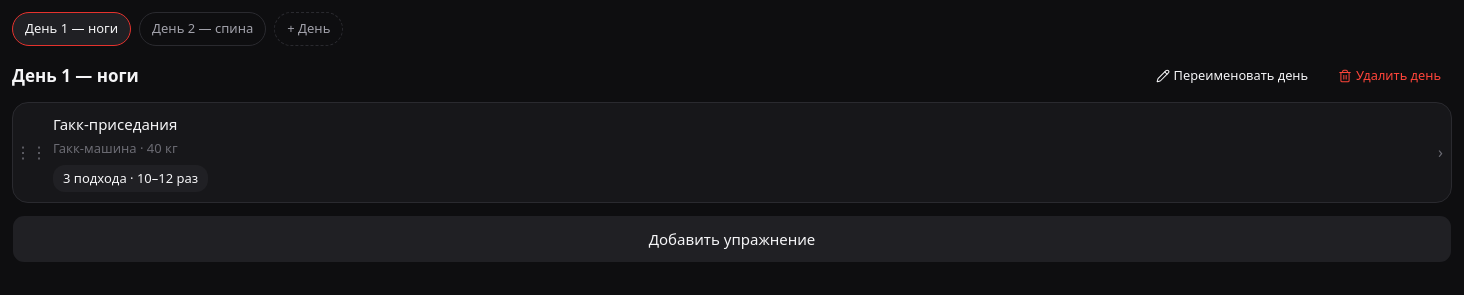
Scenario: «Отмена» в переименовании не отправляет патч
Step 1. Click the button "Переименовать день" → (1232, 76), box [1145, 62, 1319, 90]
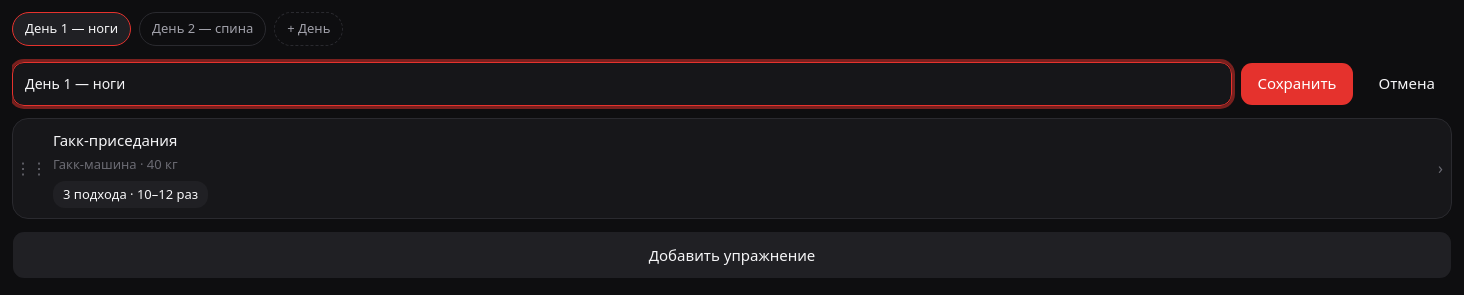
Step 2. Replace the text in the field named "Название дня" with "Другое" → (622, 84), box [12, 62, 1232, 106]
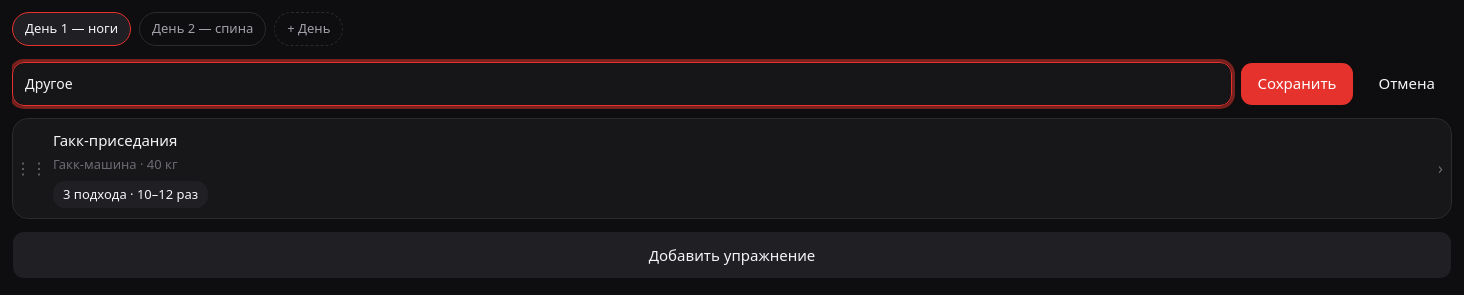
Step 3. Click the button "Отмена" → (1407, 84), box [1362, 62, 1452, 106]
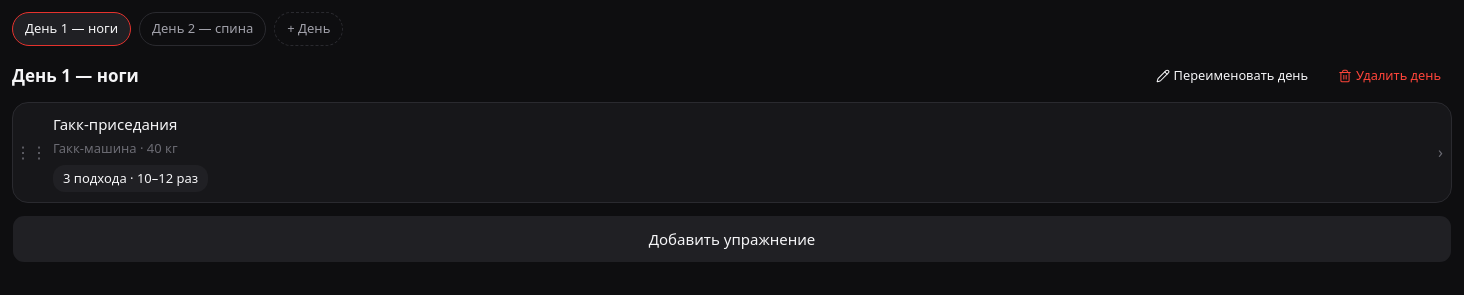
Expected: the heading "День 1 — ноги" is shown, [12, 63, 139, 88]
